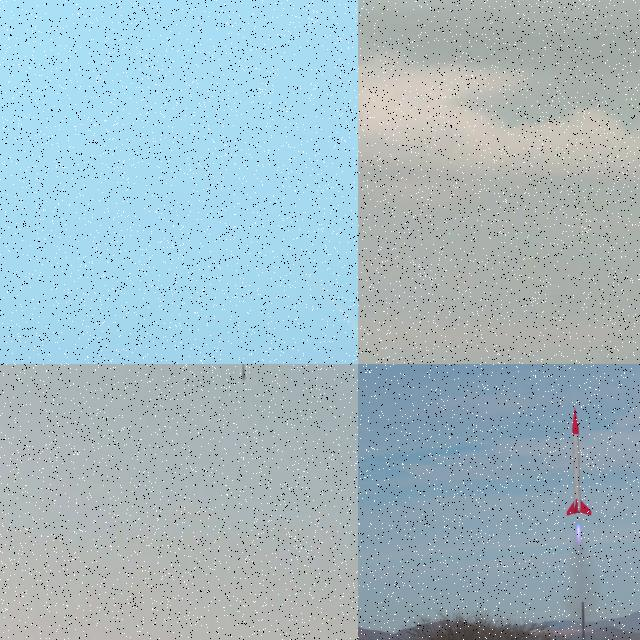Rocket: (565, 407, 593, 516), (241, 364, 245, 379), (198, 163, 205, 170)
